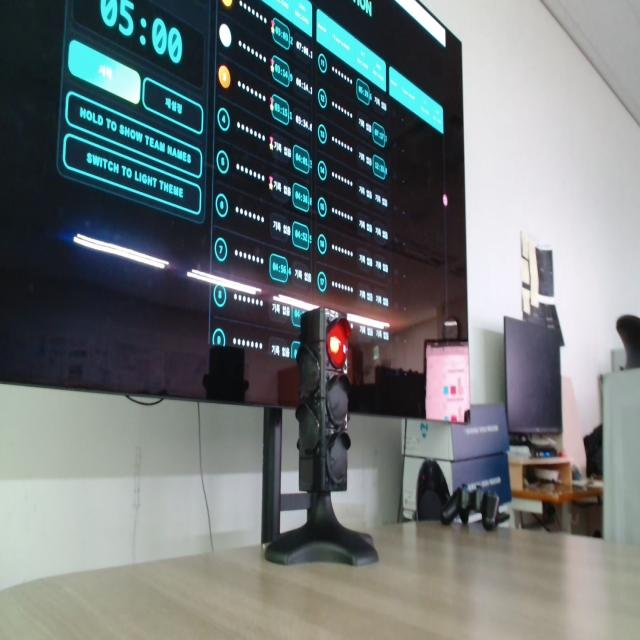red_light: (327, 319, 350, 368)
